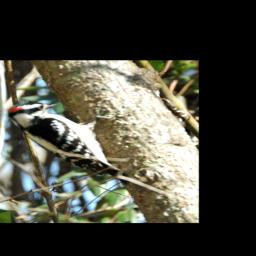Woodpecker: (8, 102, 121, 177)
